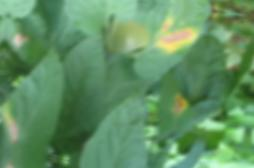Tomato Early blight leaf: (122, 0, 222, 93)
